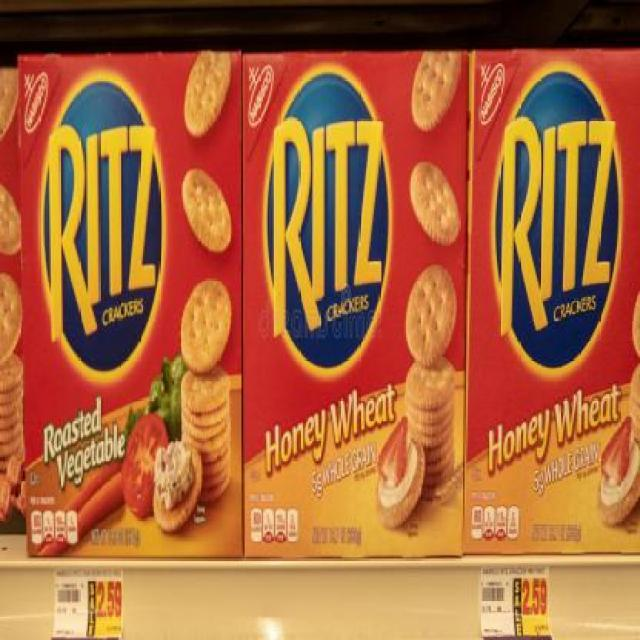Ritz cracker: (13, 42, 247, 566), (240, 47, 465, 578), (471, 37, 640, 588)
